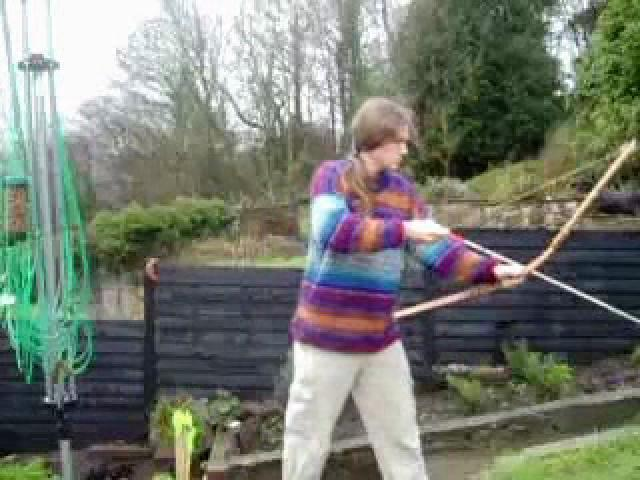I: (285, 80, 527, 480)
